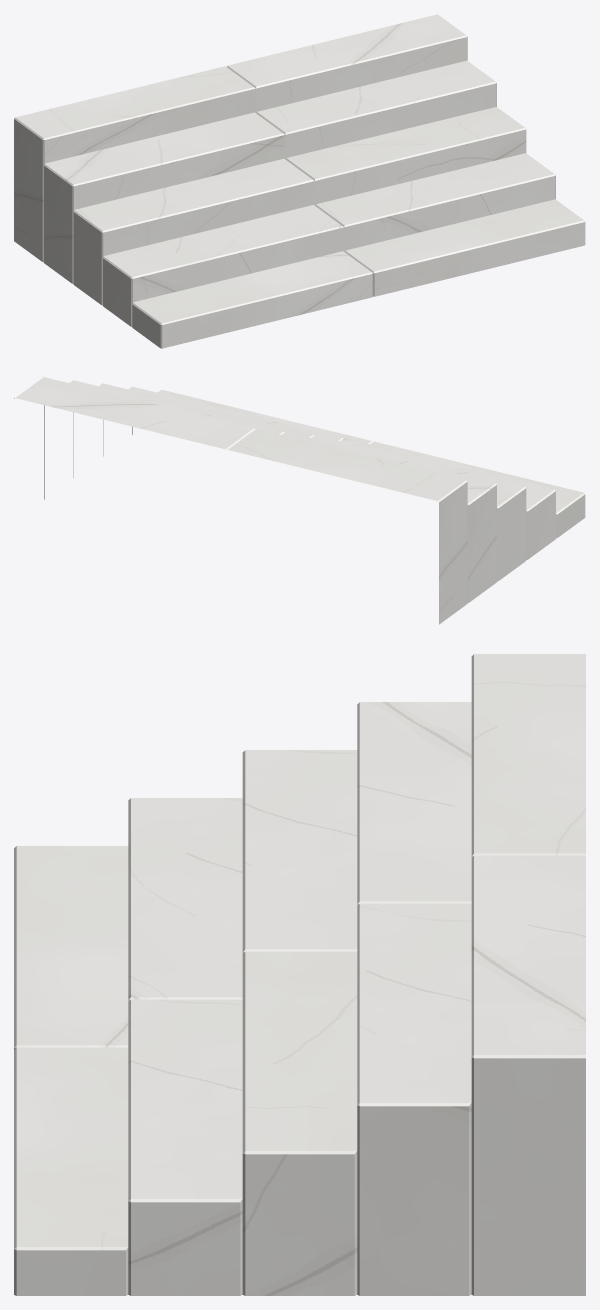
3 views of the same model, one above another, from view 1: azimuth 30°, elevation 25°; view 2: azimuth 150°, elevation 25°; view 3: azimuth 270°, elevation 25° (orthographic). The views are drawn at different scales.
Parts seen in each view (by area): view 1: Mesh_pool_steps; view 2: Mesh_pool_steps; view 3: Mesh_pool_steps.
Boxes of the visible parts, x1,y1,x2,y2 form: Mesh_pool_steps: (14, 14, 585, 348); Mesh_pool_steps: (14, 377, 585, 624); Mesh_pool_steps: (14, 654, 585, 1295).
Size of the model in its own units: 3 by 0.8333 by 1.8.
1 material, 1 textured.
